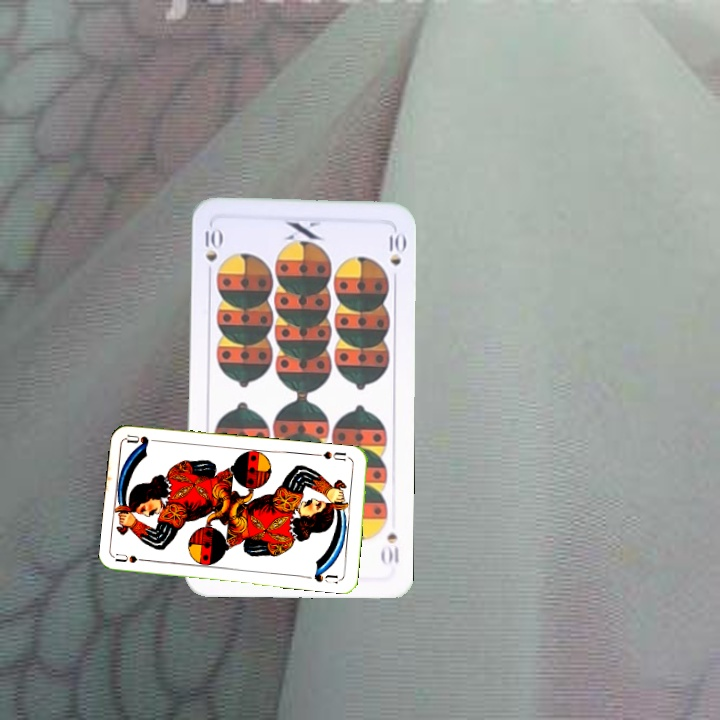S10: (201, 225, 222, 281), (378, 528, 402, 567)
SU: (312, 447, 353, 463), (113, 550, 154, 566)
